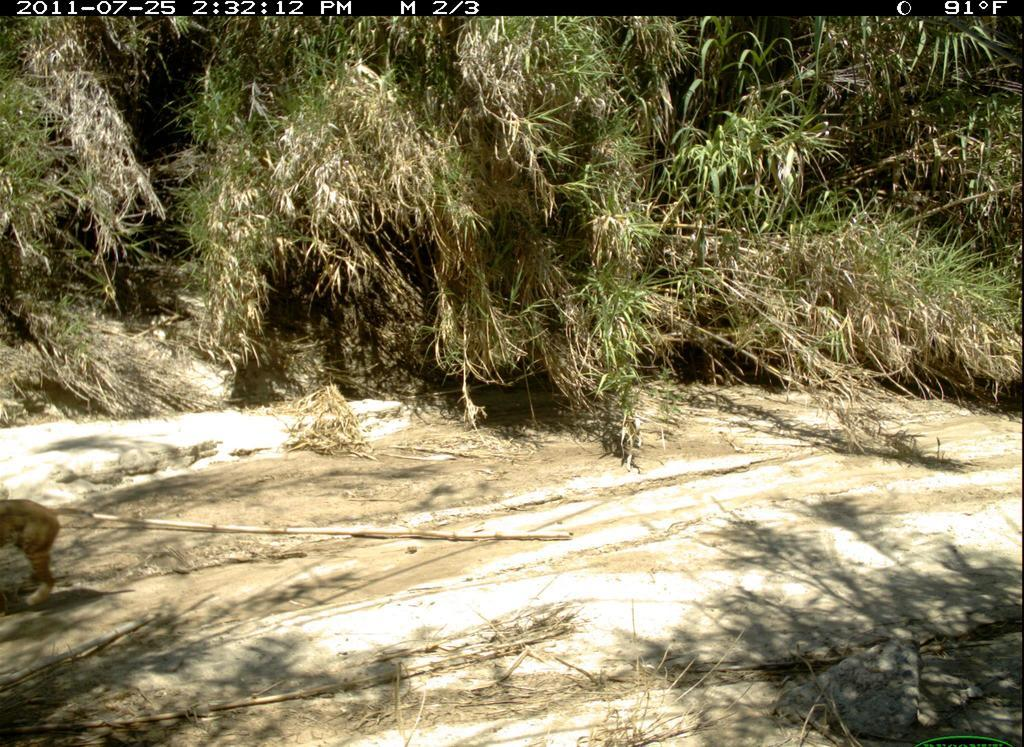bobcat: (7, 487, 71, 612)
